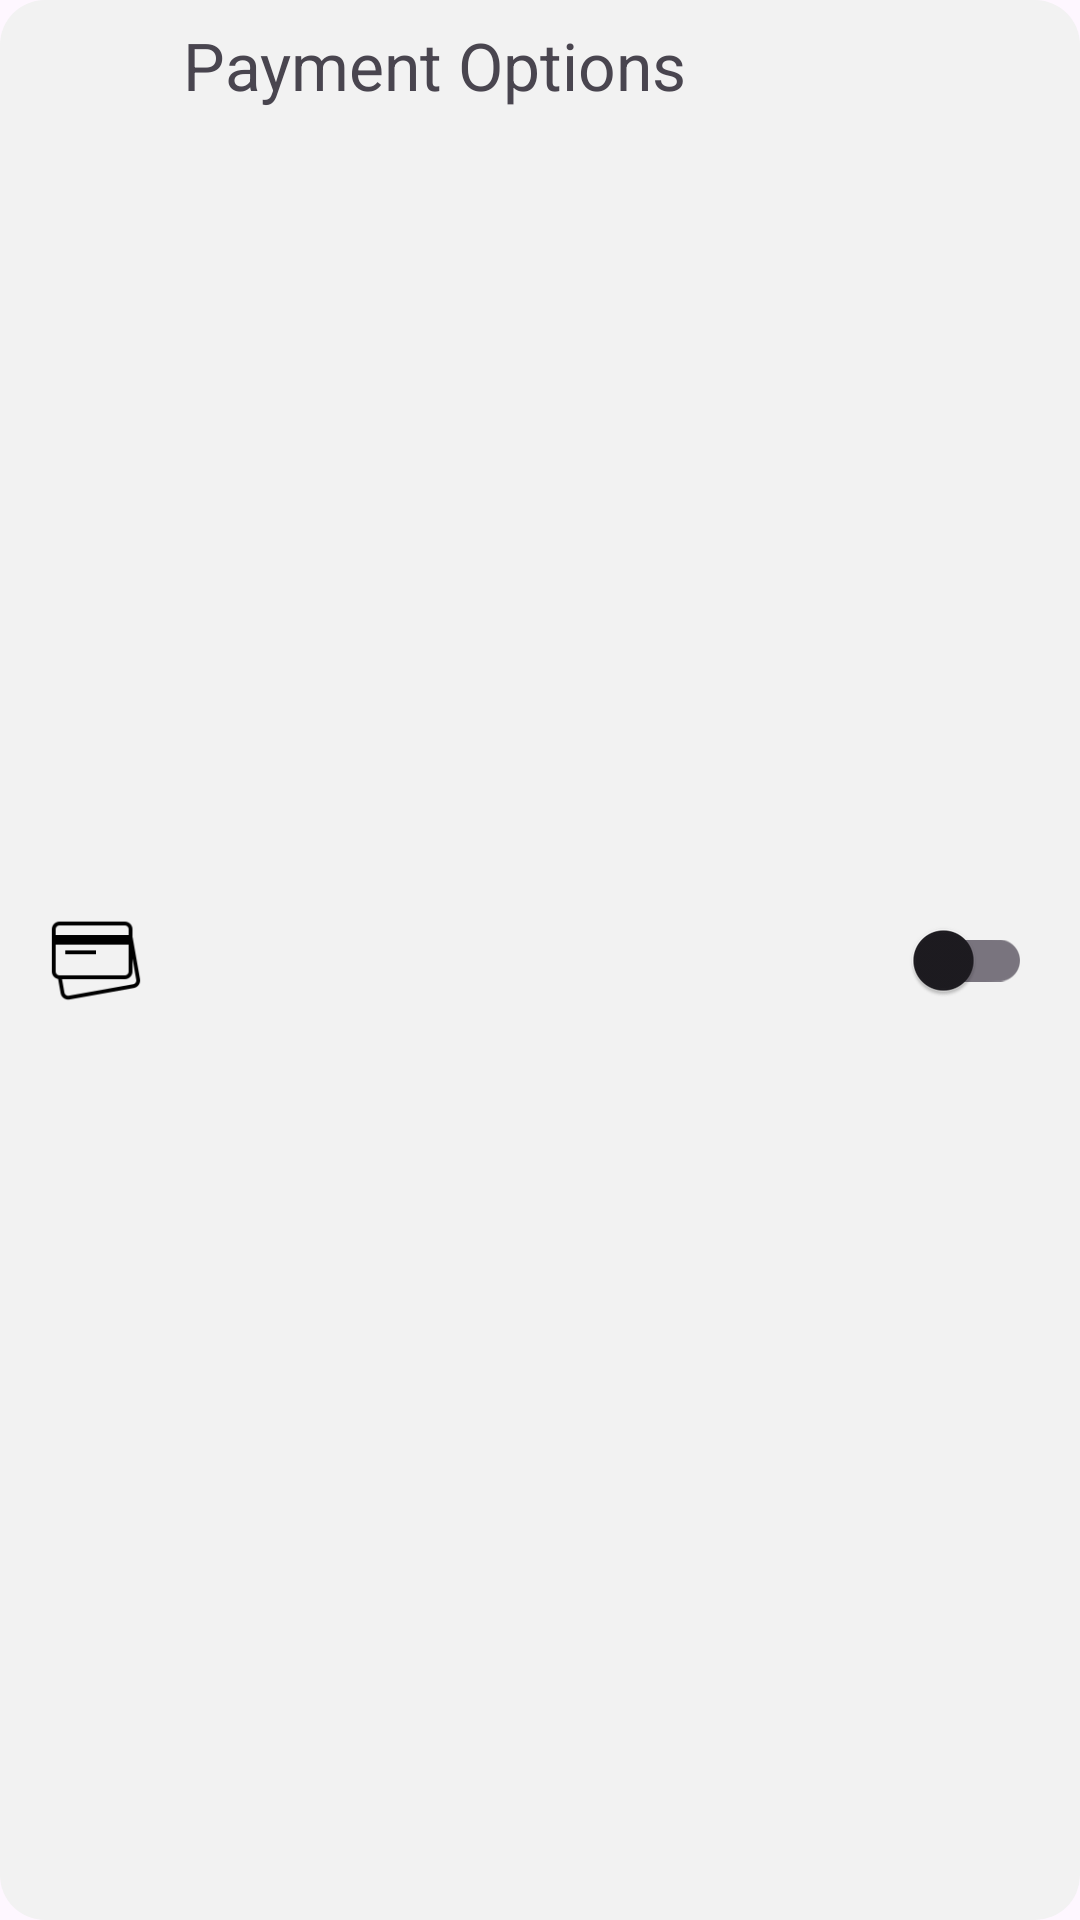

Point at icon controls on the screen. Image size 1080px×1920px, points as (x,y).
cards: (96,960)
